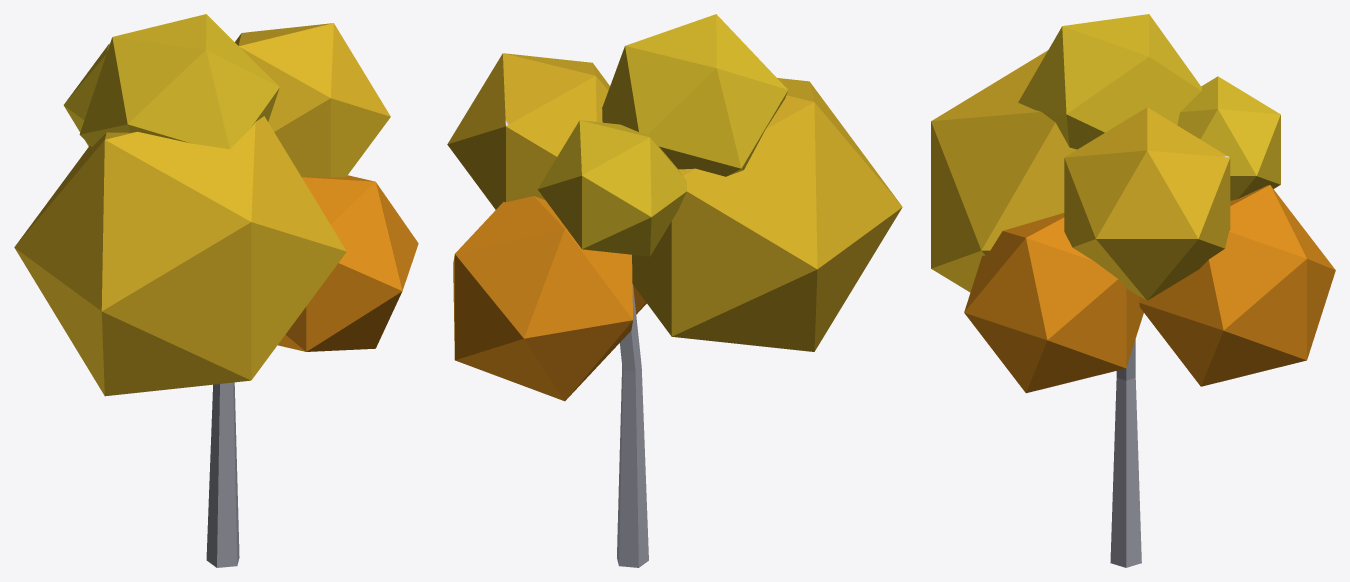
The model's file is tree03.dae.
The picture shows the model from 3 angles, left to right: view 1: azimuth 30°, elevation 25°; view 2: azimuth 150°, elevation 25°; view 3: azimuth 270°, elevation 25°; orthographic projection. The views are drawn at different scales.
Parts seen in each view (by area): view 1: leaves (×5), bark; view 2: leaves (×5), bark; view 3: leaves (×6), bark.
Part boxes in pixels (left/top/right/bottom): leaves (×5): left=14, top=14, right=418, bottom=396; bark: left=206, top=382, right=239, bottom=567; leaves (×5): left=447, top=14, right=902, bottom=401; bark: left=617, top=284, right=648, bottom=567; leaves (×6): left=931, top=14, right=1335, bottom=393; bark: left=1110, top=339, right=1141, bottom=567.
Bounding box in the file's own units: 693 × 1032 × 741.
Materials: 1 (1 with a texture image).
